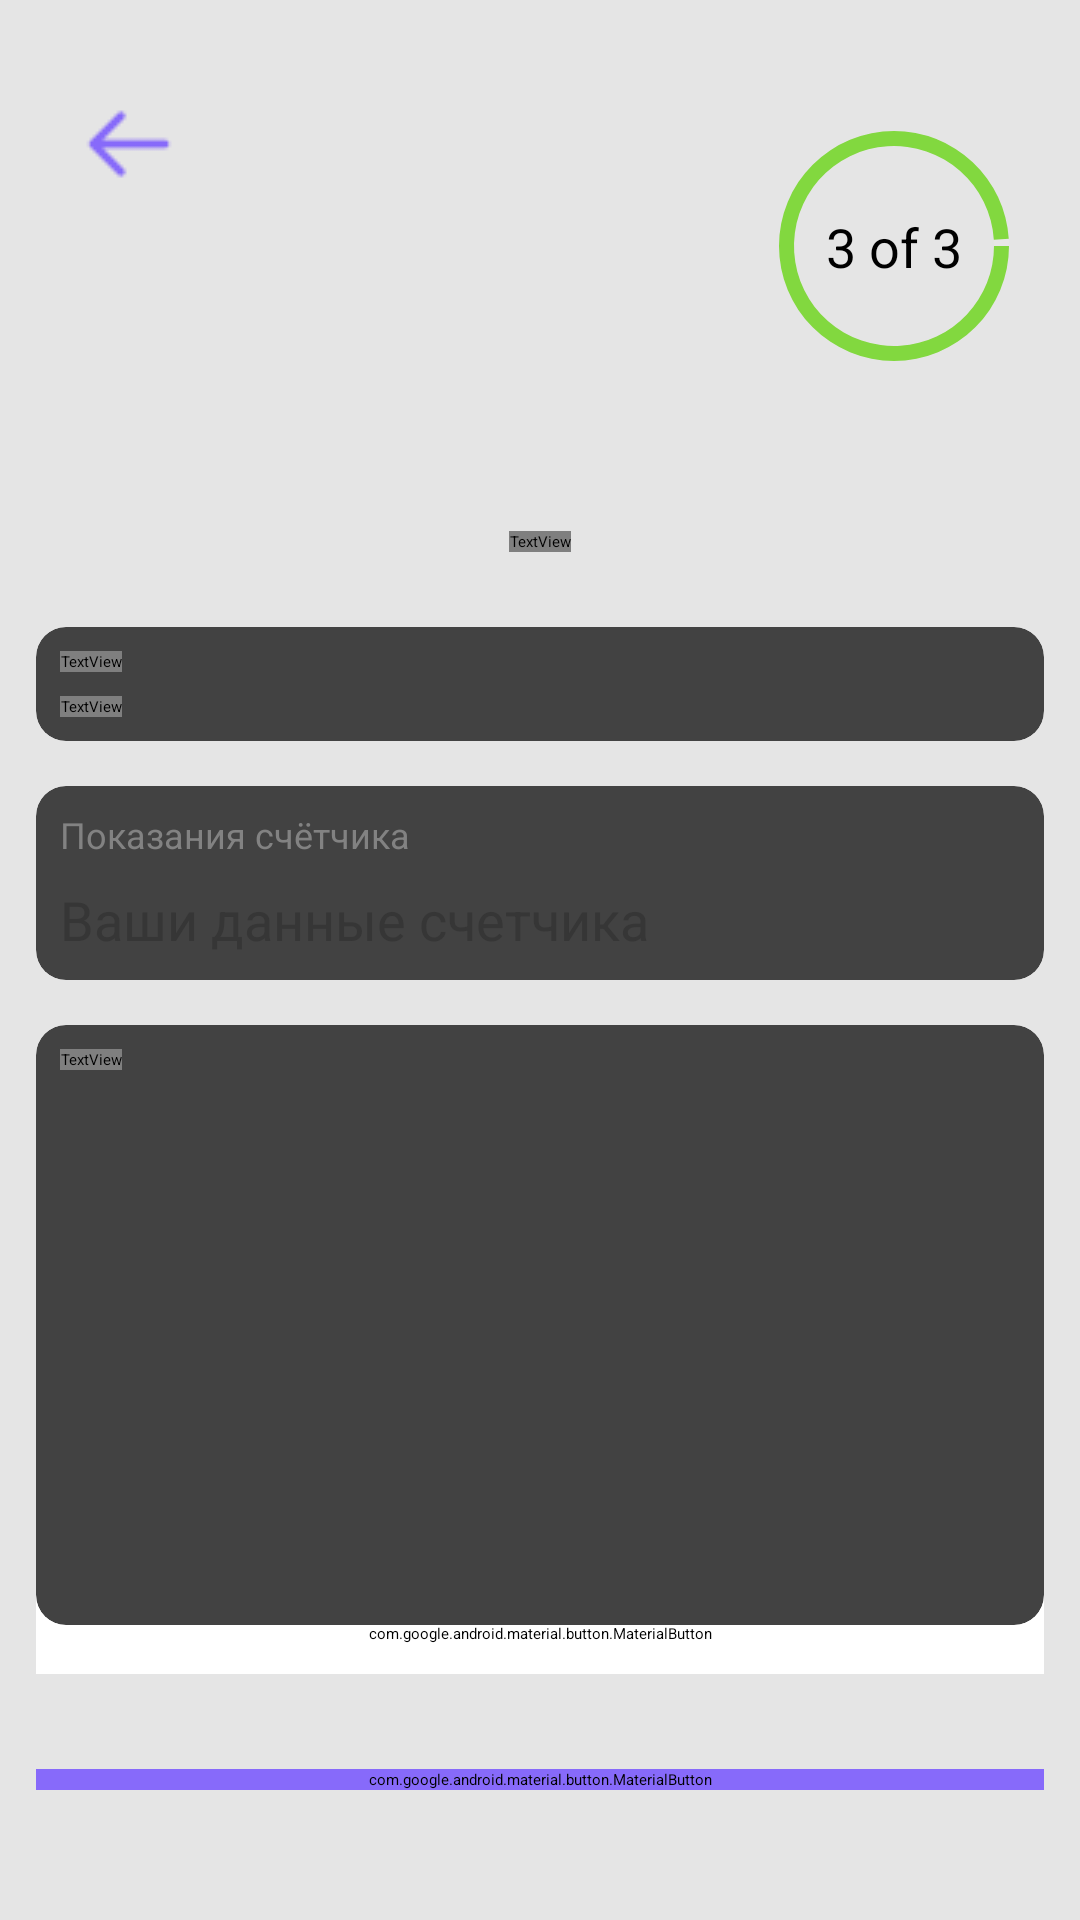

Icons on this 1080×1920 Android screen, each with the point to tap as [x,y]:
left arrow: [129,143]
